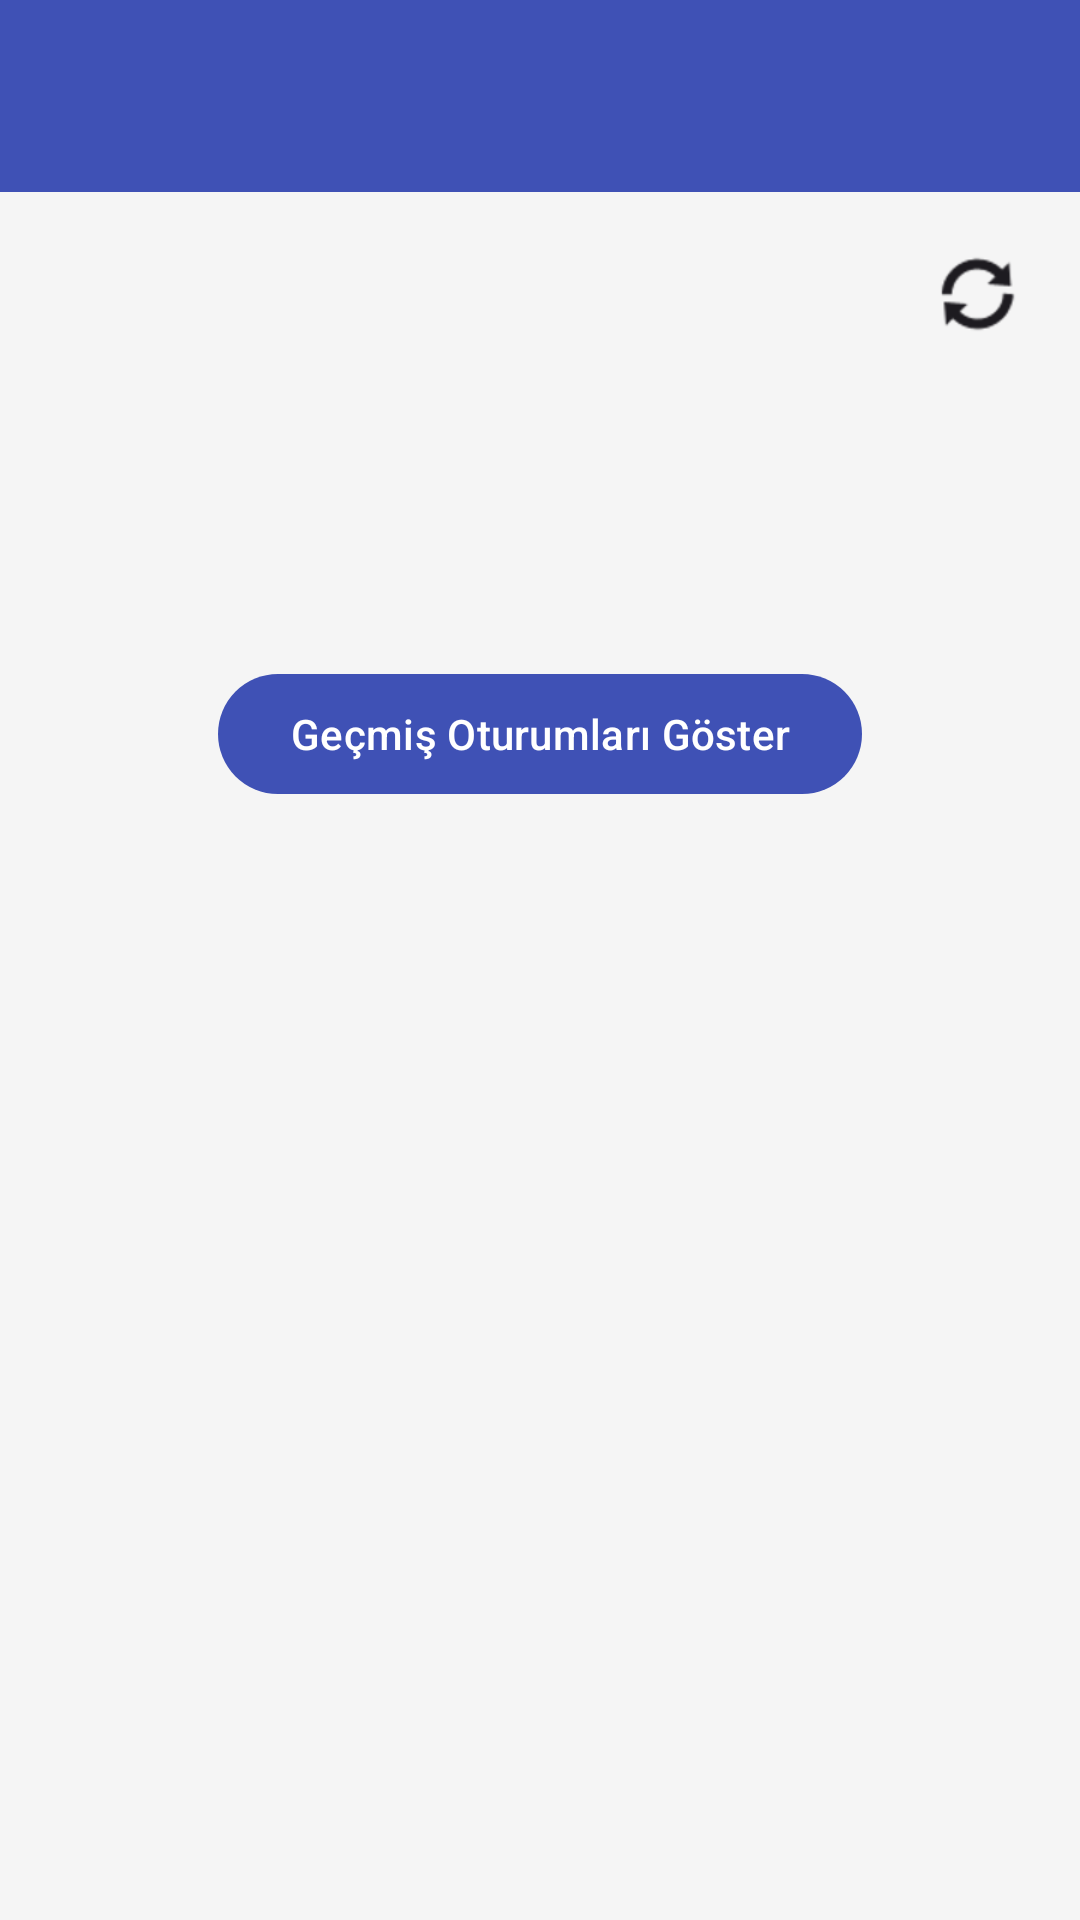

Named icons in this screenshot (1080 × 1920) and their bounding boxes, (x1, y1, x2, y2):
Yenile: (941, 258, 1015, 330)
